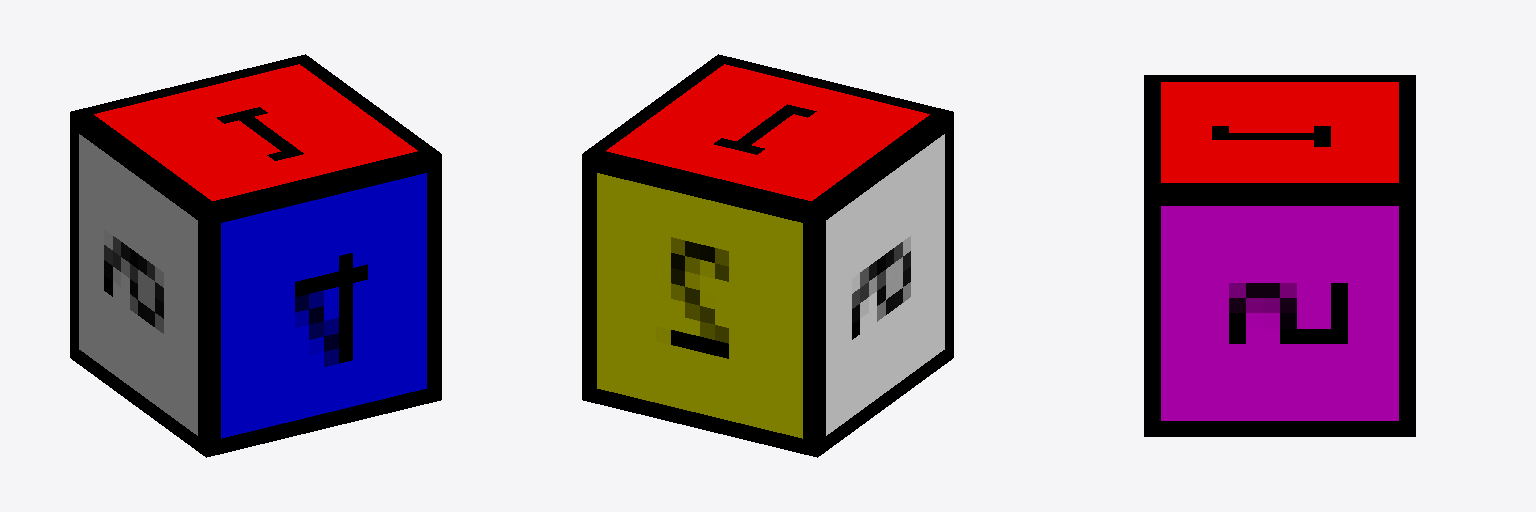
3 views of the same model, side by side, from view 1: azimuth 30°, elevation 25°; view 2: azimuth 150°, elevation 25°; view 3: azimuth 270°, elevation 25° (orthographic).
Parts seen in each view (by area): view 1: Cube; view 2: Cube; view 3: Cube.
Part boxes in pixels (bbox=[...]): Cube: bbox=[70, 54, 441, 457]; Cube: bbox=[582, 54, 953, 457]; Cube: bbox=[1144, 75, 1415, 436].
Bounding box in the file's own units: 2 × 2 × 2.
1 materials, 1 textured.